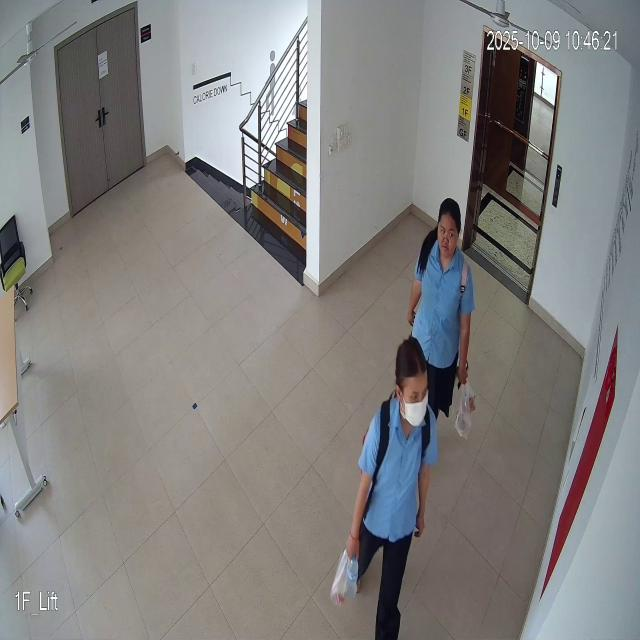face: (436, 194, 464, 260)
